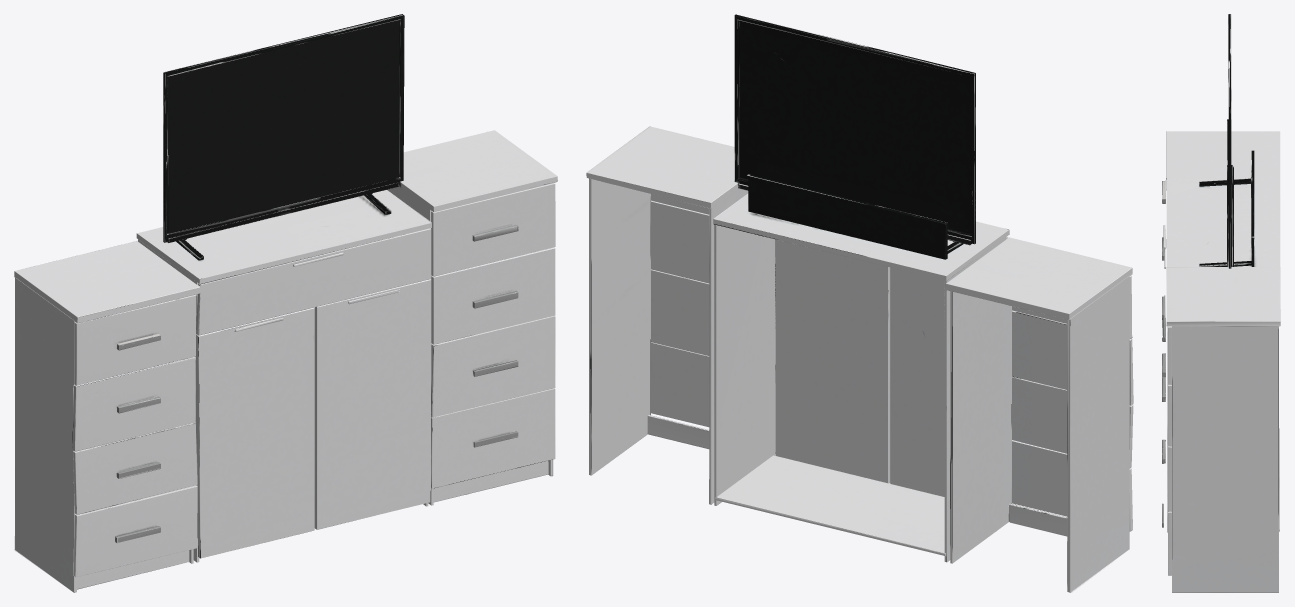
Rendered from Meshy_AI_White_TV_Console_with_1020124806_texture.glb.
The picture shows the model from 3 angles, left to right: view 1: azimuth 30°, elevation 25°; view 2: azimuth 150°, elevation 25°; view 3: azimuth 270°, elevation 25°; orthographic projection. The views are drawn at different scales.
Size of the model in its own units: 0.9551 by 0.8843 by 0.2256.
1 material, 1 textured.
